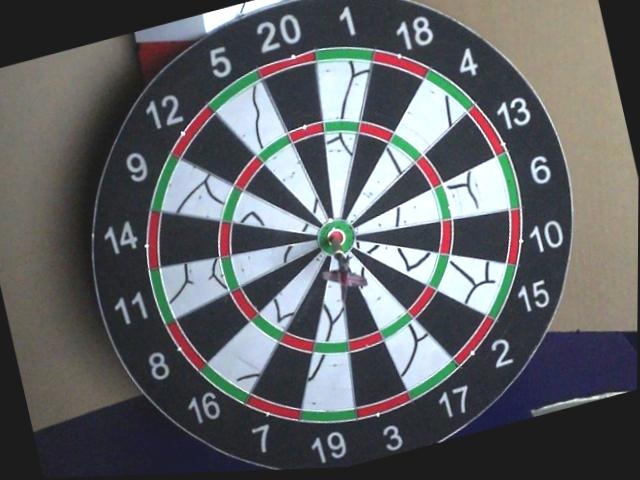bullseye: (318, 218, 355, 255)
